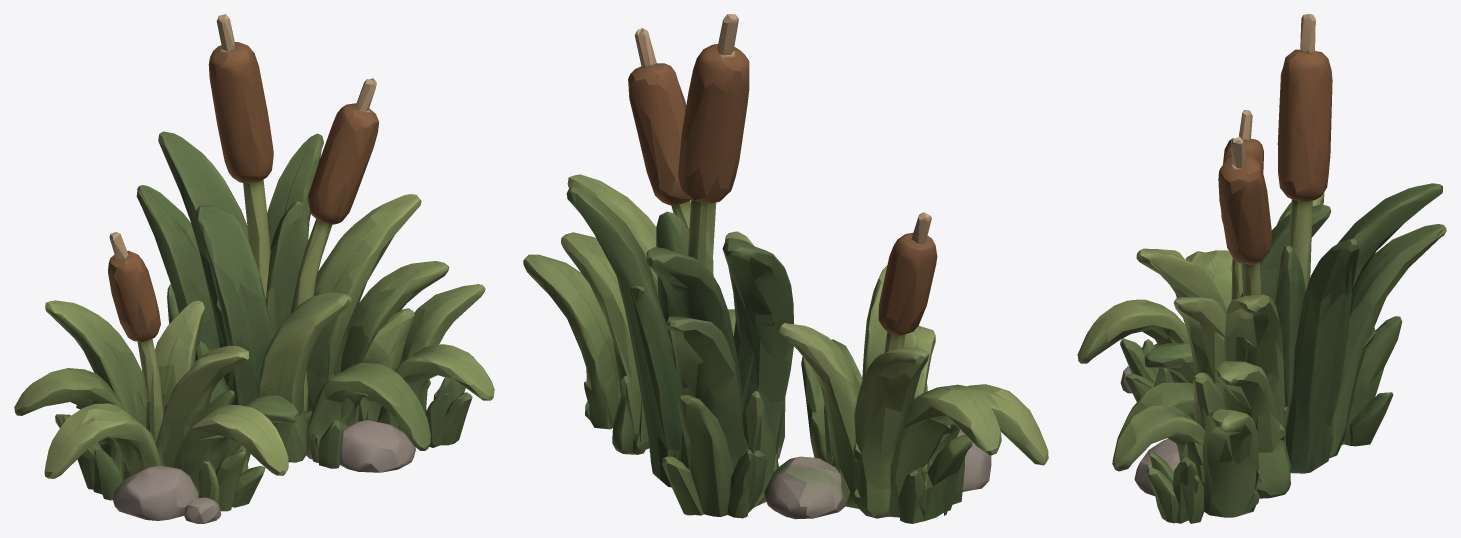
Rendered from cattail.glb.
3 views of the same model, side by side, from view 1: azimuth 30°, elevation 25°; view 2: azimuth 150°, elevation 25°; view 3: azimuth 270°, elevation 25° (orthographic). The views are drawn at different scales.
Visible parts, largest first — view 1: Mesh_0; view 2: Mesh_0; view 3: Mesh_0.
Part boxes in pixels (x1,y1,x2,y2): Mesh_0: [14, 14, 494, 523]; Mesh_0: [523, 14, 1048, 523]; Mesh_0: [1077, 14, 1446, 523].
Size of the model in its own units: 1.2 by 1.07 by 0.84.
1 material, 1 textured.
